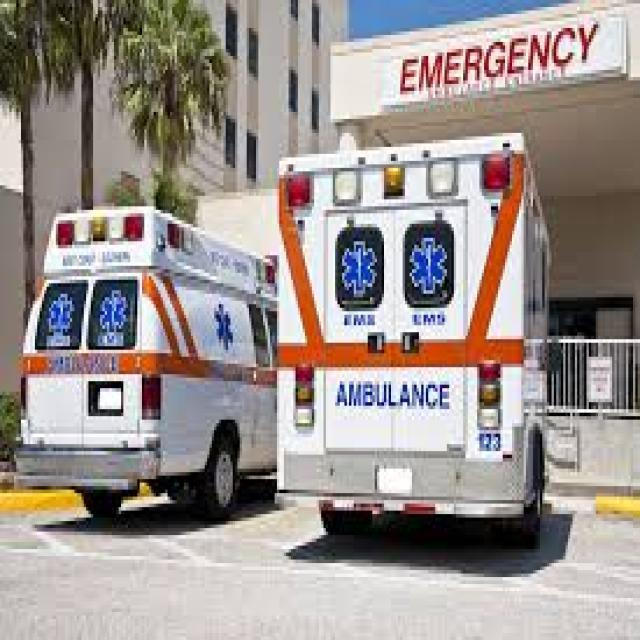ambulance: (278, 147, 552, 547), (18, 199, 278, 527)
